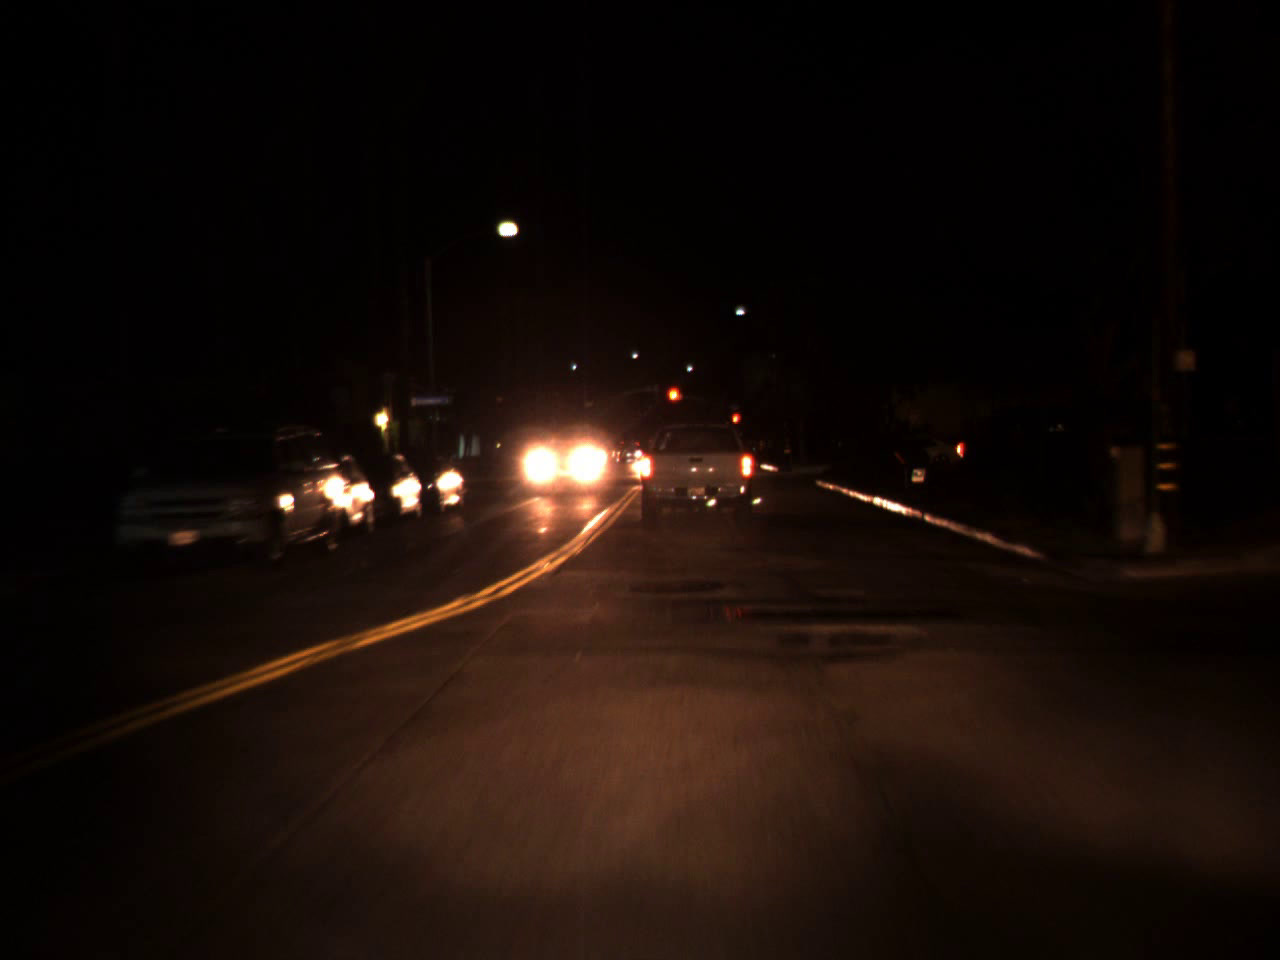stop: (665, 385, 683, 417), (730, 411, 740, 435)
